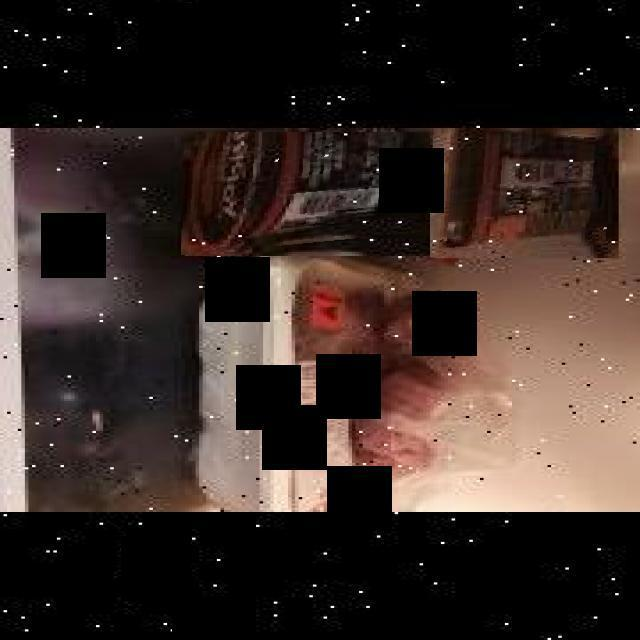yogurt: (181, 132, 434, 256), (430, 128, 615, 258)
